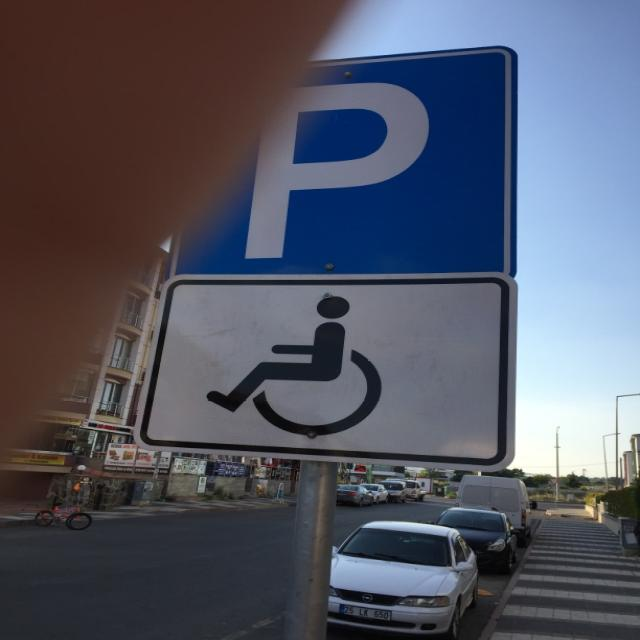park: (144, 45, 518, 277)
